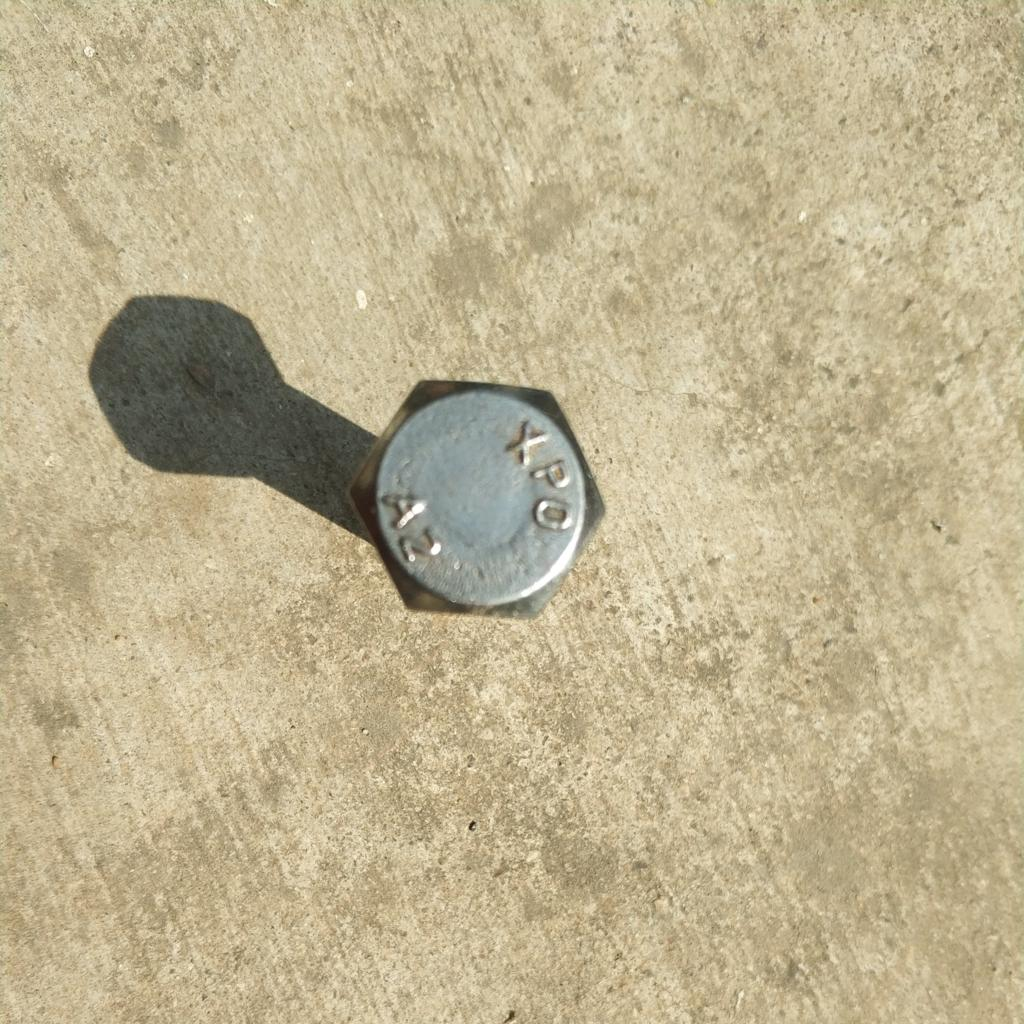screwtype2silver: (308, 365, 630, 640)
